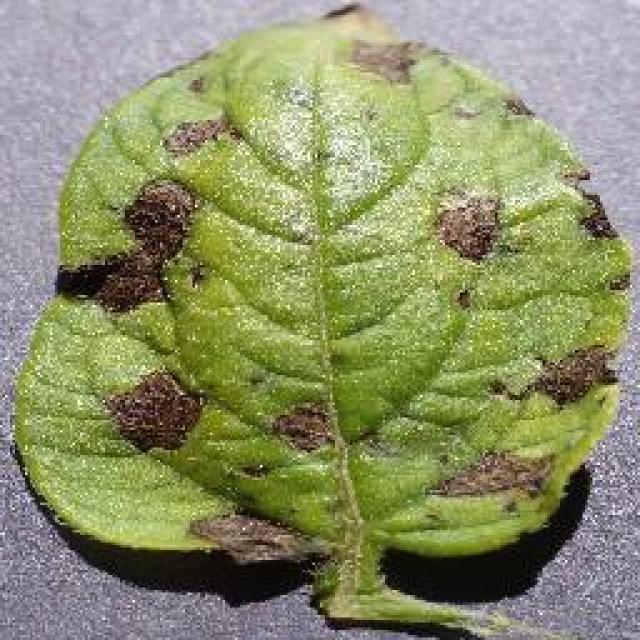early_blight: (8, 0, 638, 638)
